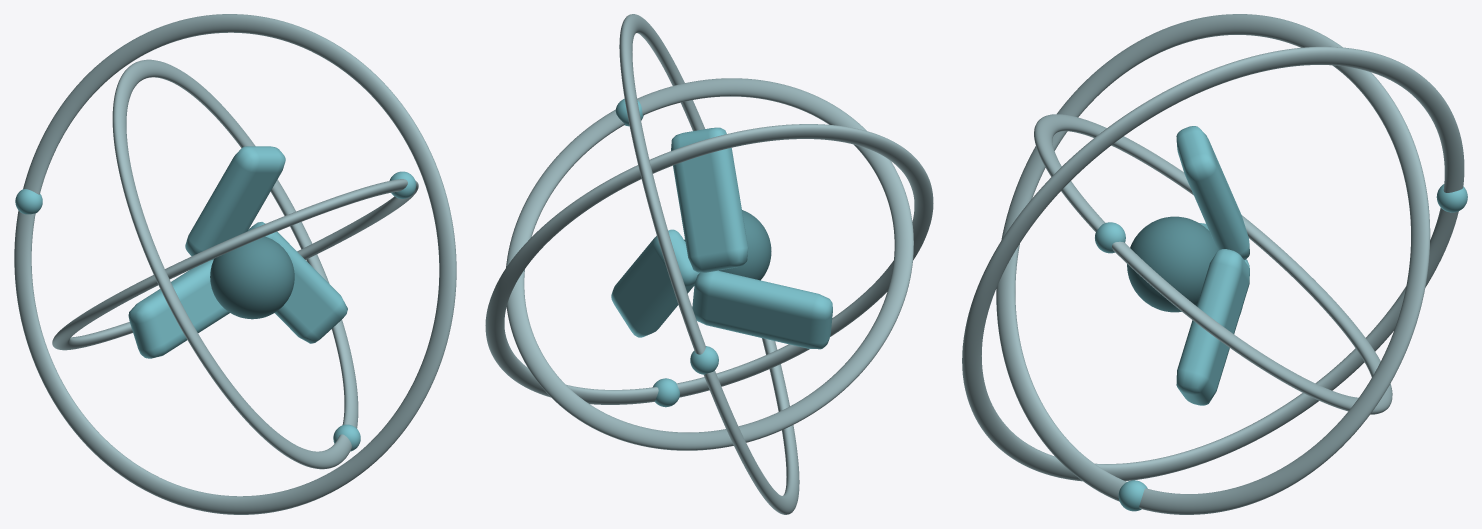
3 renders of one model, left to right at view 1: azimuth 30°, elevation 25°; view 2: azimuth 150°, elevation 25°; view 3: azimuth 270°, elevation 25°, orthographic. The views are drawn at different scales.
Bounding box in the file's own units: 0.9387 × 1.12 × 1.05.
